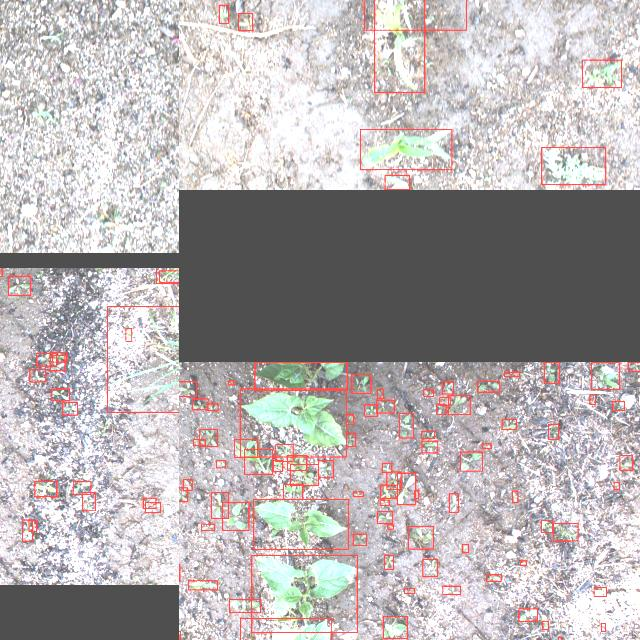crop: (251, 555, 357, 633), (239, 388, 345, 456), (252, 499, 348, 549), (374, 0, 424, 92), (360, 130, 450, 170), (254, 362, 346, 390), (239, 619, 330, 640), (384, 174, 410, 190)
weed: (107, 306, 179, 412), (541, 148, 605, 185), (582, 60, 620, 88), (591, 362, 619, 388), (222, 502, 248, 530), (244, 448, 272, 474), (290, 464, 318, 486), (408, 526, 432, 550), (397, 473, 415, 505), (382, 617, 406, 639), (210, 492, 228, 518), (552, 523, 578, 541), (233, 439, 257, 457), (460, 452, 482, 471), (8, 276, 30, 294), (447, 396, 469, 414), (228, 600, 260, 612), (399, 412, 413, 438), (352, 373, 371, 392), (155, 268, 179, 283), (34, 481, 56, 497), (199, 428, 217, 446), (276, 444, 292, 462), (36, 352, 56, 366), (544, 362, 558, 382), (188, 580, 216, 590), (282, 484, 302, 498), (286, 456, 306, 470), (422, 559, 436, 577), (386, 471, 400, 489), (318, 460, 332, 478), (477, 381, 499, 392), (179, 381, 195, 396), (238, 14, 252, 31), (379, 484, 396, 498), (82, 493, 95, 511), (50, 355, 64, 371), (29, 368, 45, 382), (22, 520, 32, 542), (159, 270, 179, 281), (72, 482, 90, 494), (51, 389, 69, 401), (518, 609, 536, 621), (376, 400, 394, 412), (376, 511, 392, 523), (421, 441, 437, 453), (448, 493, 458, 512), (218, 5, 228, 23), (192, 398, 208, 409), (62, 402, 76, 414), (620, 456, 632, 470), (352, 534, 366, 546), (144, 503, 160, 513), (540, 520, 552, 532), (442, 586, 460, 594), (364, 404, 376, 416), (142, 498, 156, 508), (52, 352, 66, 362), (502, 419, 516, 429), (548, 424, 558, 438), (383, 555, 392, 569), (612, 400, 624, 410), (442, 381, 452, 393), (627, 361, 640, 370), (486, 574, 500, 582), (346, 432, 354, 446), (179, 487, 187, 501), (272, 461, 282, 472), (436, 404, 446, 414), (381, 463, 391, 473), (182, 480, 192, 490), (28, 520, 36, 532), (593, 588, 605, 596), (345, 414, 353, 424), (439, 397, 449, 405), (200, 524, 213, 530), (421, 432, 434, 438), (125, 328, 131, 340), (193, 439, 205, 445), (207, 404, 217, 411), (511, 491, 517, 502), (216, 460, 224, 468), (423, 389, 433, 395), (377, 388, 383, 398), (404, 588, 414, 594), (542, 620, 548, 630), (504, 372, 518, 376), (462, 544, 468, 552), (590, 394, 594, 404), (353, 492, 363, 496), (482, 444, 491, 448), (520, 560, 526, 566), (379, 500, 388, 504), (614, 482, 618, 490), (414, 490, 418, 498), (601, 623, 605, 631), (227, 380, 233, 384), (388, 524, 392, 530), (557, 637, 560, 640)
